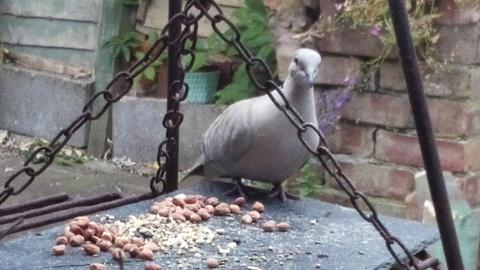collared dove: (178, 48, 322, 202)
